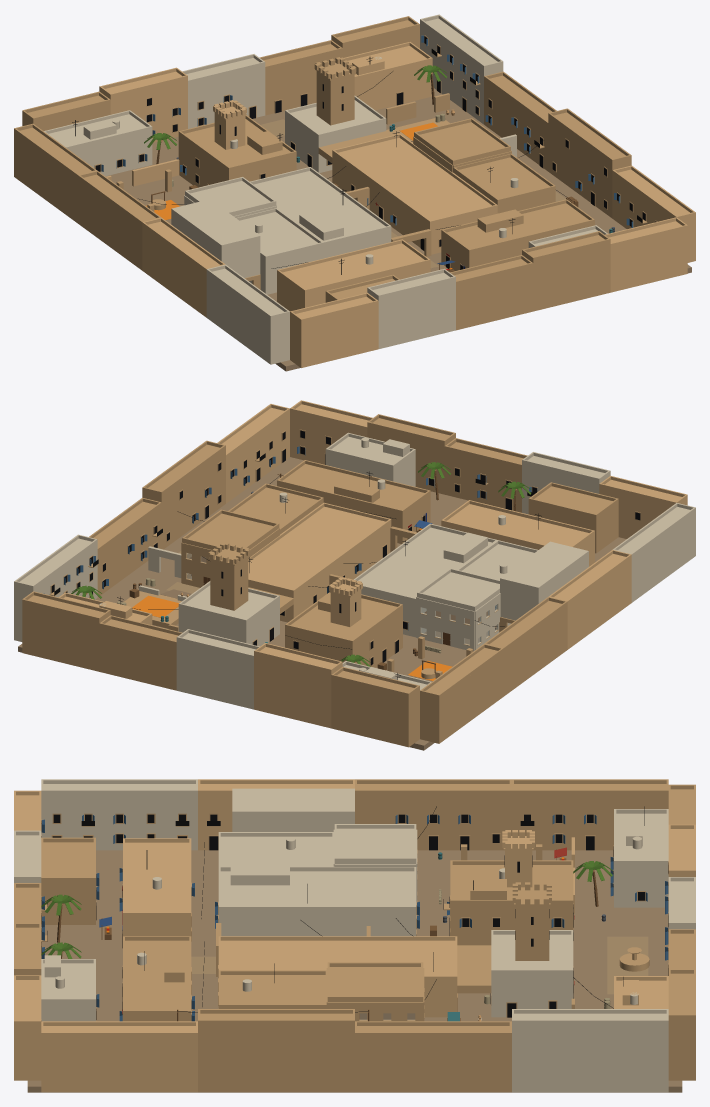
File: oasis.glb
3 views of the same model, one above another, from view 1: azimuth 30°, elevation 25°; view 2: azimuth 150°, elevation 25°; view 3: azimuth 270°, elevation 25° (orthographic). The views are drawn at different scales.
Visible parts, largest first — view 1: Building21, Ground1, Building18, Building24, Building2, Building8, Building4, Building15, Building26, Building10, Building6, Building23 (+30 smaller); view 2: Building21, Ground1, Building1, Building3, Building12, Building20, Building9, Building5, Building24, Building15, Building7, ApartmentsUpper1 (+29 smaller); view 3: Ground1, Building11, Building15, Building24, Building13, Building17, Building21, Building18, Building14, Building12, Building26, ApartmentsUpper1 (+50 smaller).
Boxes of the visible parts, <box> form: Building21: <box>332,137,497,254</box>; Ground1: <box>106,88,691,371</box>; Building18: <box>206,268,289,364</box>; Building24: <box>254,171,391,258</box>; Building2: <box>290,296,378,367</box>; Building8: <box>522,235,610,311</box>; Building4: <box>367,273,455,348</box>; Building15: <box>548,112,631,218</box>; Building26: <box>277,243,430,311</box>; Building10: <box>609,221,687,292</box>; Building6: <box>454,259,533,330</box>; Building23: <box>441,203,594,270</box>; Building21: <box>248,506,391,622</box>; Ground1: <box>18,457,626,750</box>; Building1: <box>331,670,419,747</box>; Building3: <box>254,647,342,728</box>; Building12: <box>420,648,503,743</box>; Building20: <box>285,598,402,667</box>; Building9: <box>22,595,110,671</box>; Building5: <box>176,633,255,709</box>; Building24: <box>357,527,491,637</box>; Building15: <box>142,444,225,549</box>; Building7: <box>99,619,178,690</box>; ApartmentsUpper1: <box>500,541,588,618</box>; Ground1: <box>27,850,682,1092</box>; Building11: <box>512,1013,668,1092</box>; Building15: <box>198,1013,354,1092</box>; Building24: <box>218,871,416,936</box>; Building13: <box>355,1026,511,1092</box>; Building17: <box>41,1026,197,1092</box>; Building21: <box>220,940,457,1017</box>; Building18: <box>41,784,197,850</box>; Building14: <box>355,784,511,850</box>; Building12: <box>512,784,668,850</box>; Building26: <box>123,842,191,936</box>; ApartmentsUpper1: <box>232,788,354,831</box>.
Bounding box in the file's own units: 88 × 18.2 × 100.
